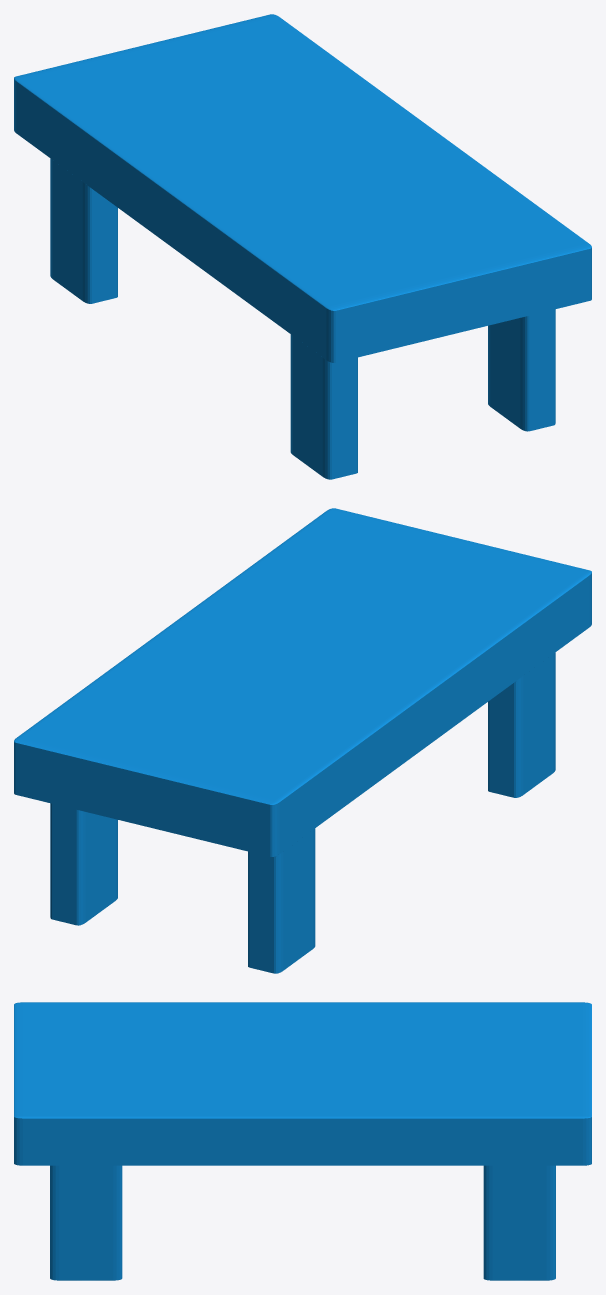
The model's file is Actual TV.fbx.
The picture shows the model from 3 angles, top to bottom: view 1: azimuth 30°, elevation 25°; view 2: azimuth 150°, elevation 25°; view 3: azimuth 270°, elevation 25°; orthographic projection. The views are drawn at different scales.
Visible parts, largest first — view 1: Cube; view 2: Cube; view 3: Cube.
Part boxes in pixels (x1,y1,x2,y2): Cube: (14,14,591,479); Cube: (14,508,591,973); Cube: (14,1002,591,1280).
Bounding box in the file's own units: 190 × 130 × 400.
